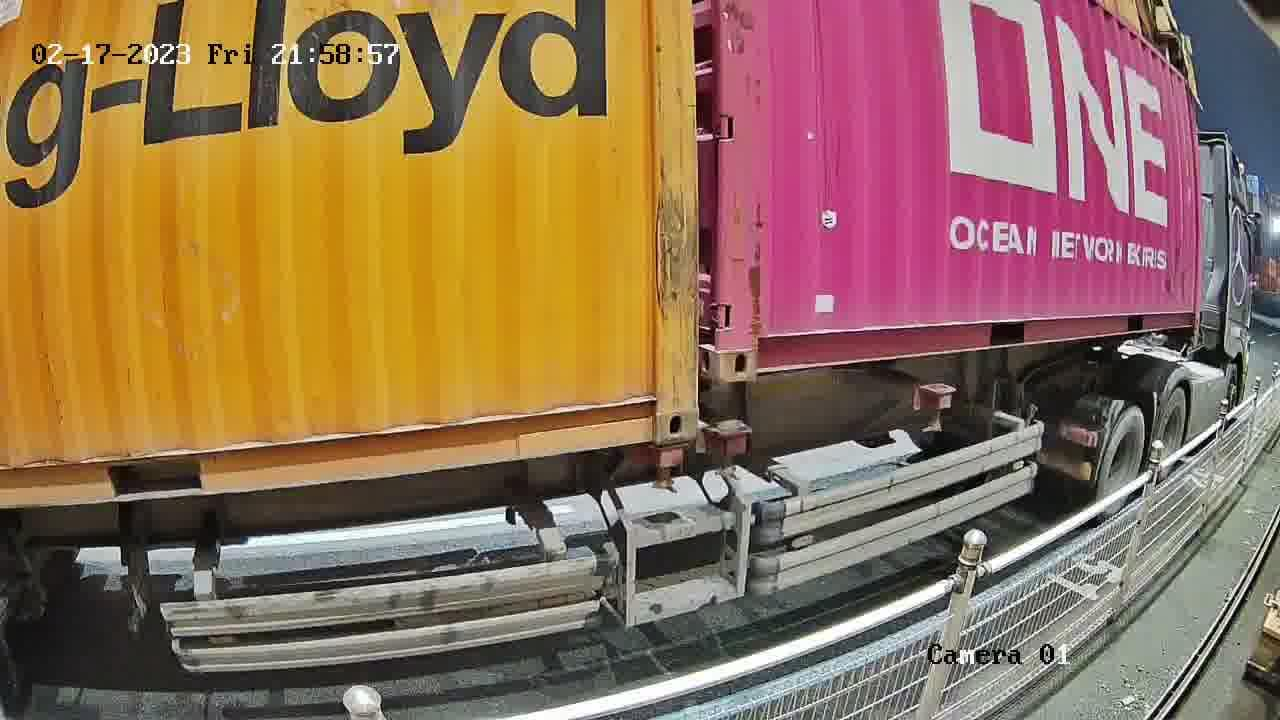Cone: (707, 418, 751, 480), (644, 445, 691, 493)
Hole_L: (720, 310, 792, 384)
Hole_R: (618, 376, 697, 446)
Tire: (1096, 407, 1144, 518), (1153, 386, 1188, 482)
